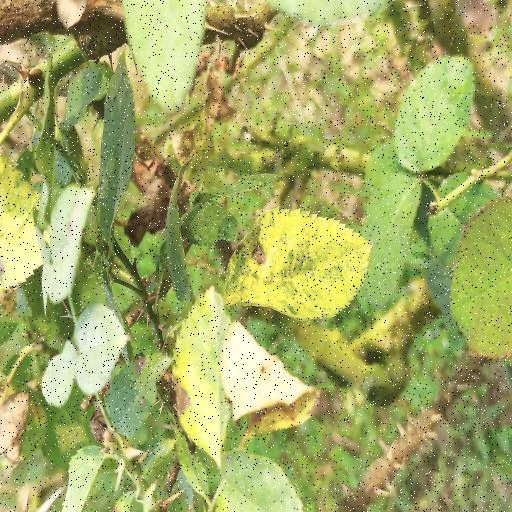thrip: (224, 208, 370, 320), (221, 321, 319, 438), (172, 287, 230, 467)
